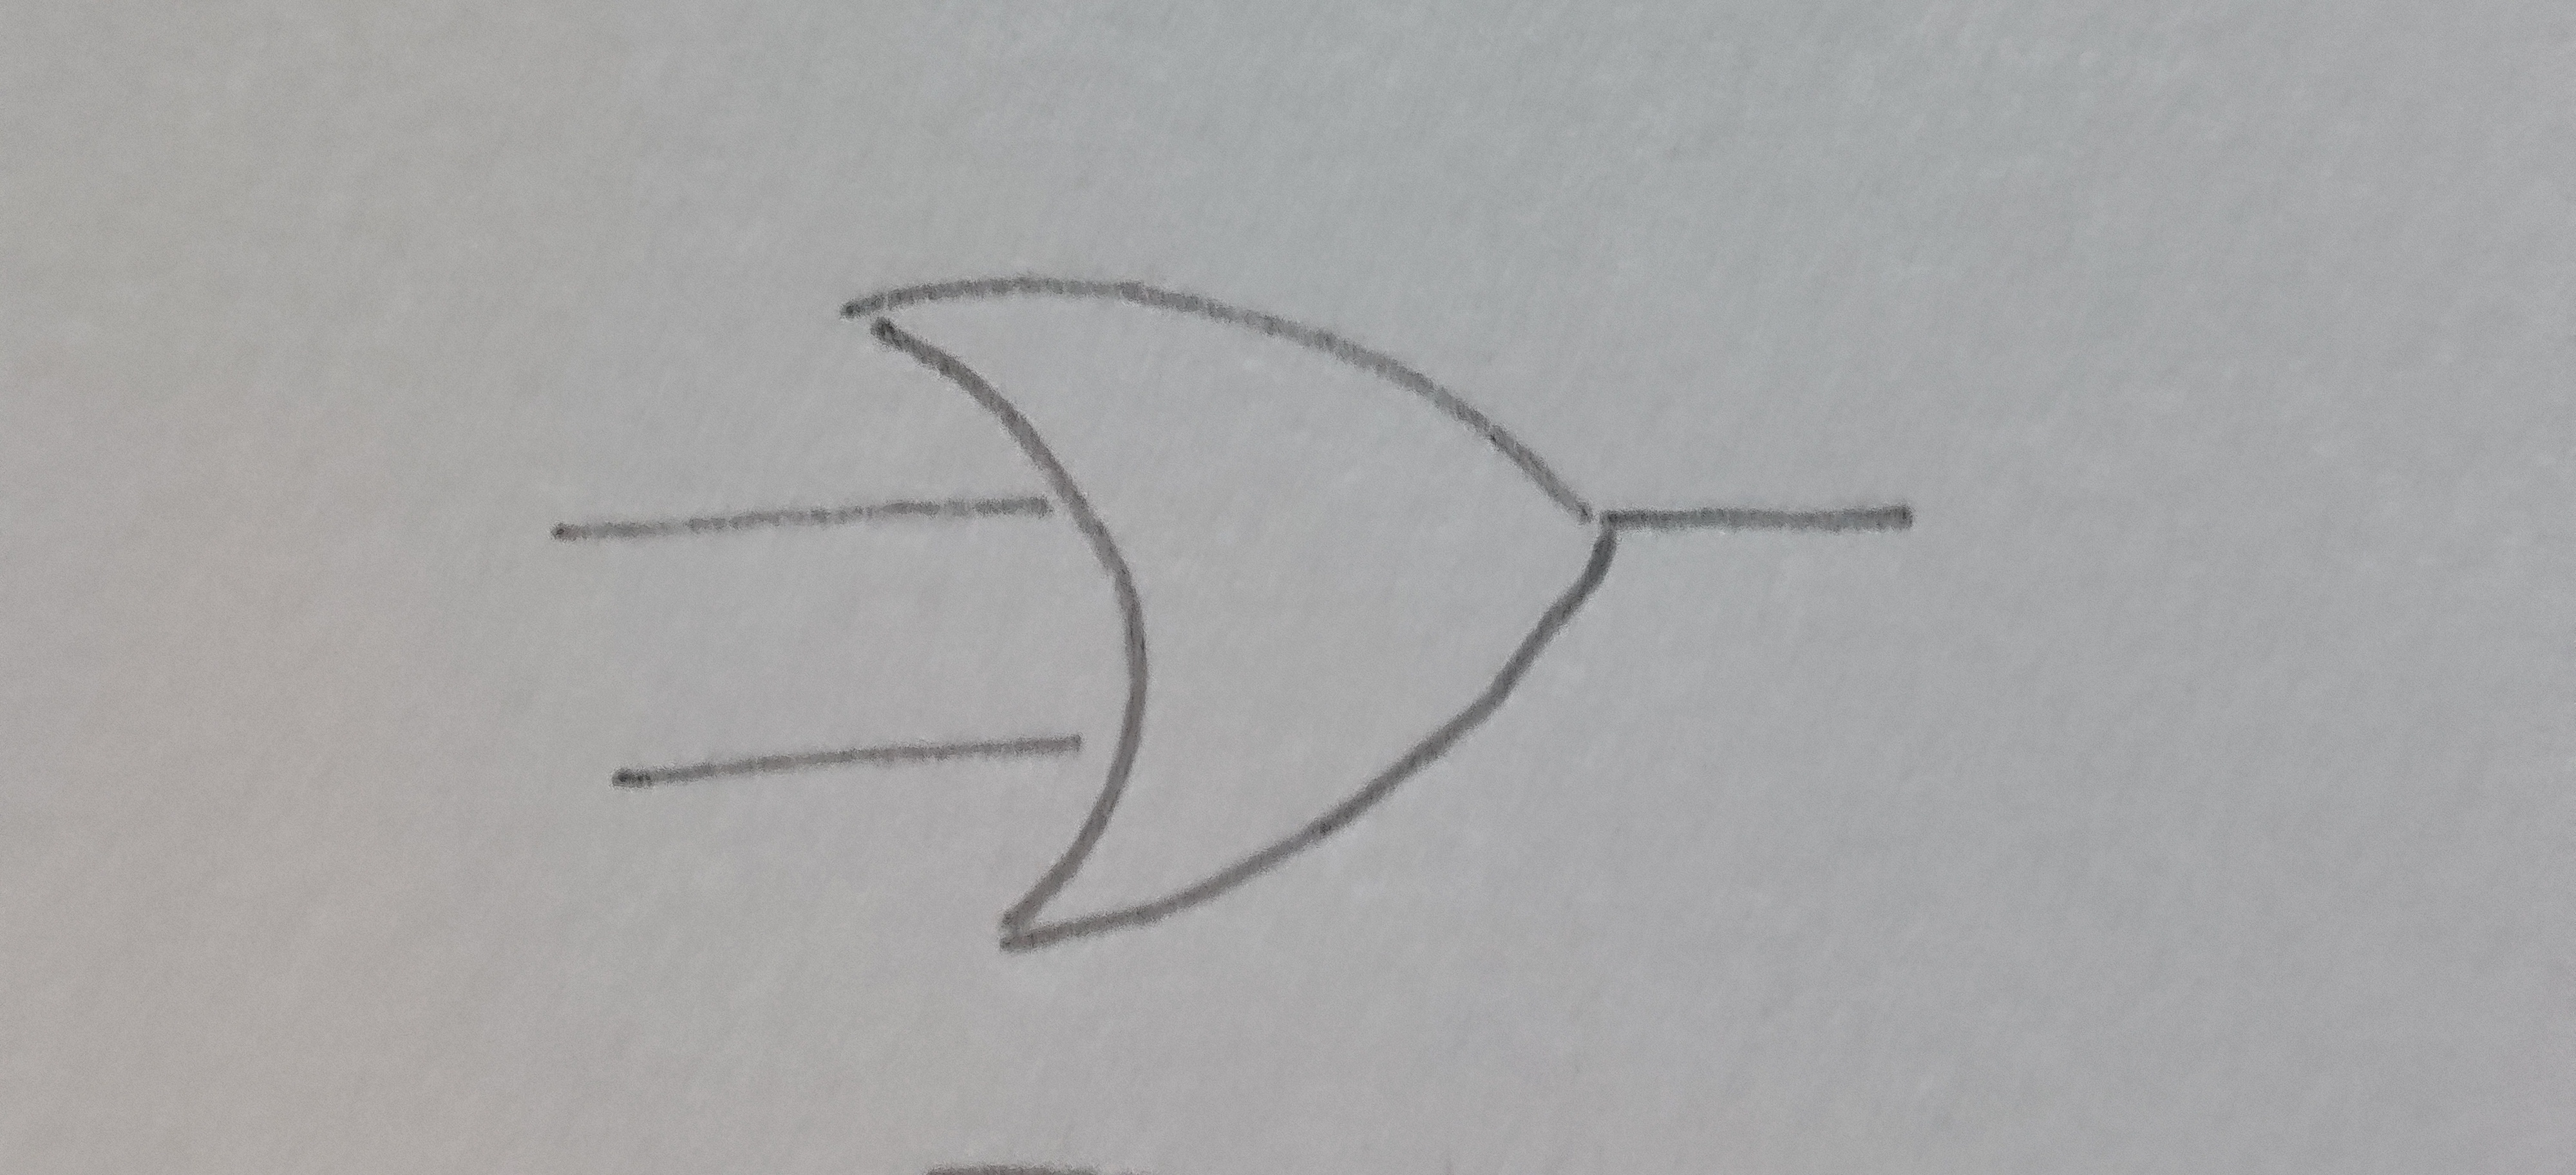or: (848, 279, 1618, 947)
